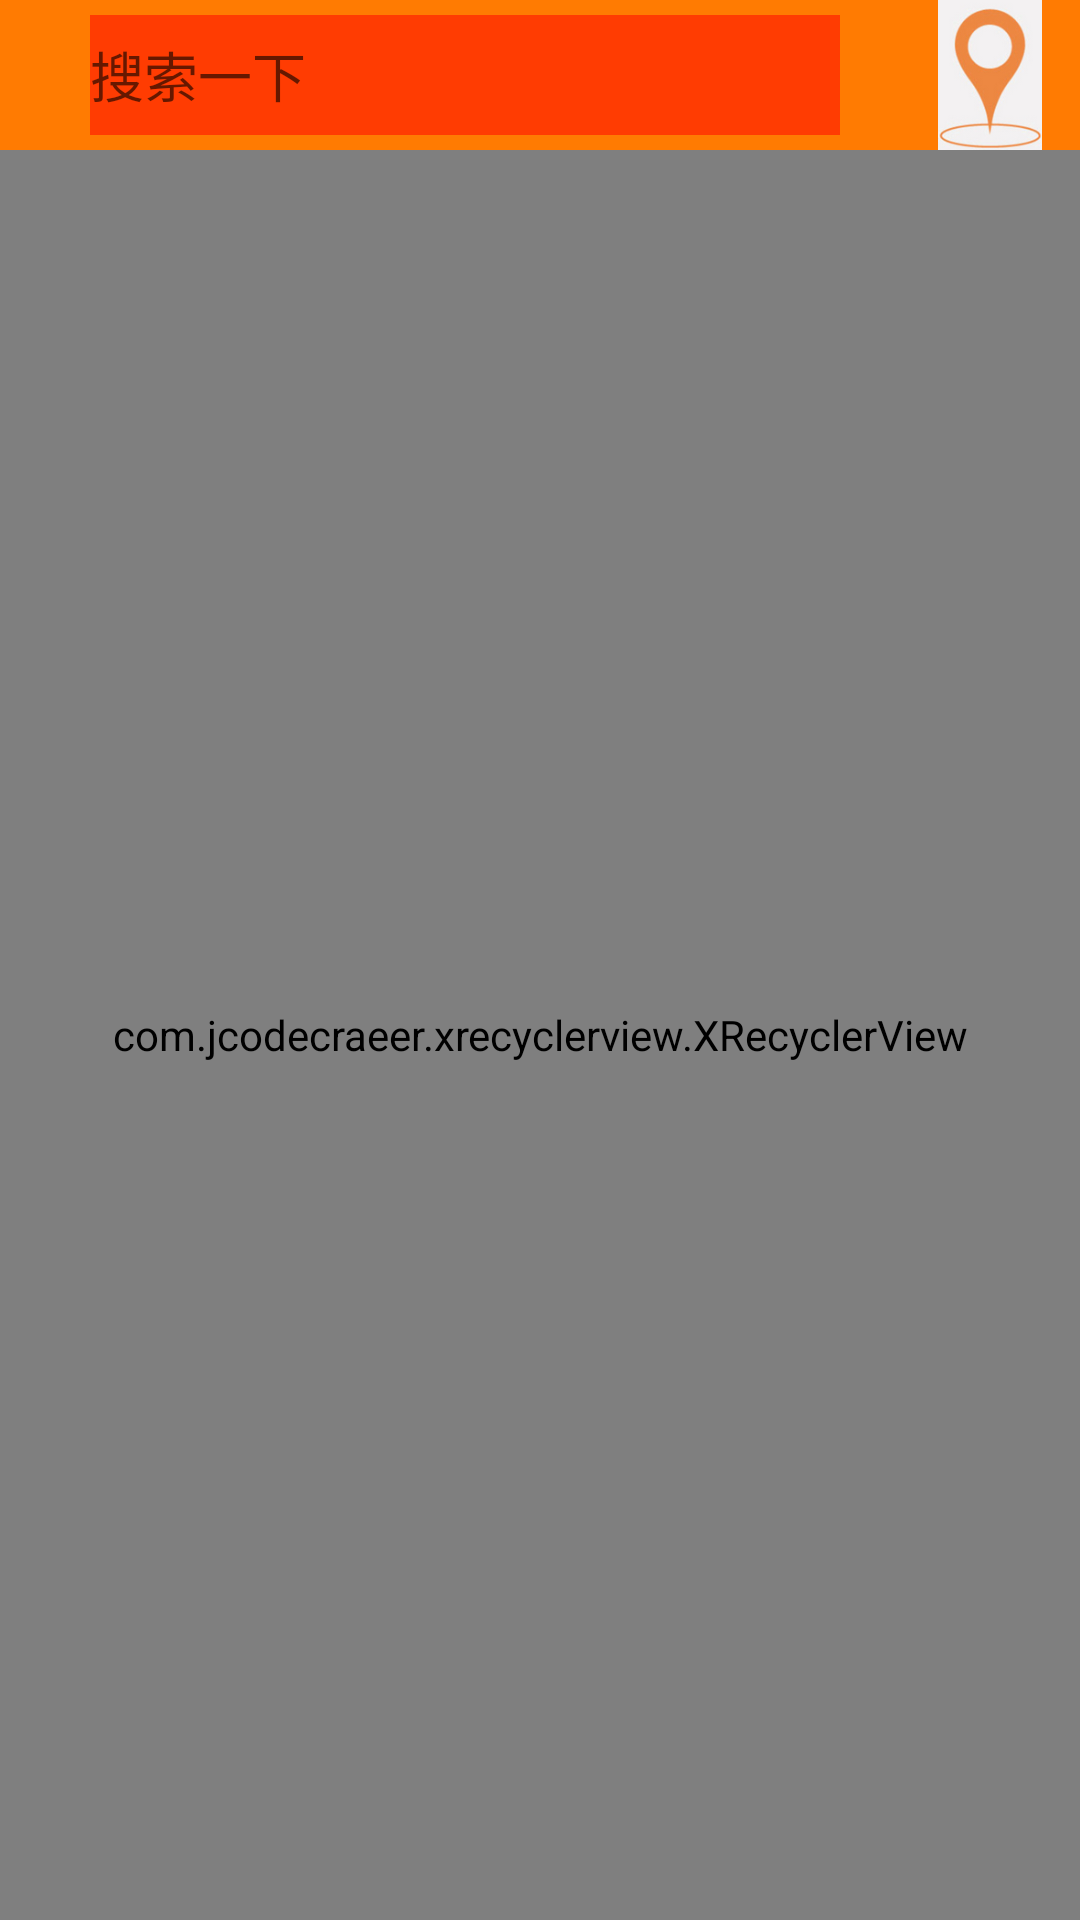

Screen size 1080 × 1920. Icon name, then its center in pixels as (x=x, y=y):
location: (x=990, y=75)
